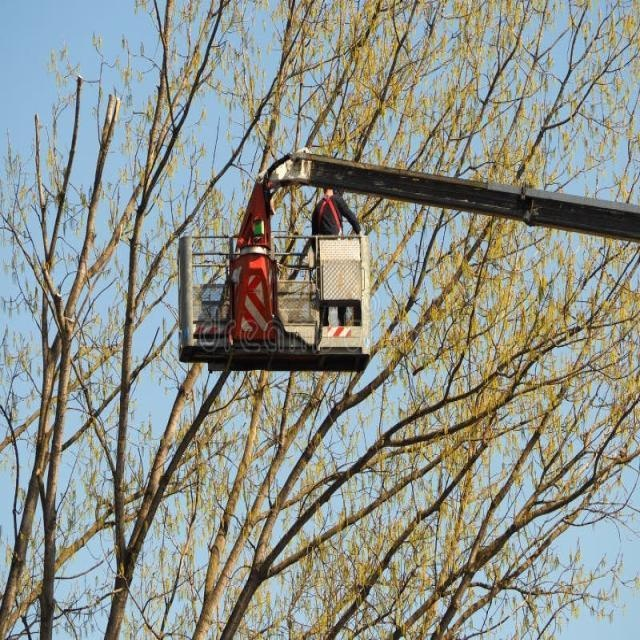Arnes_seguridad: (316, 195, 344, 254)
